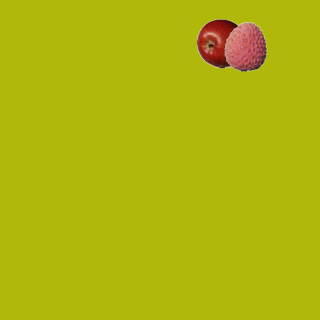Apple Braeburn: (196, 18, 246, 68)
Lychee: (220, 21, 270, 71)
